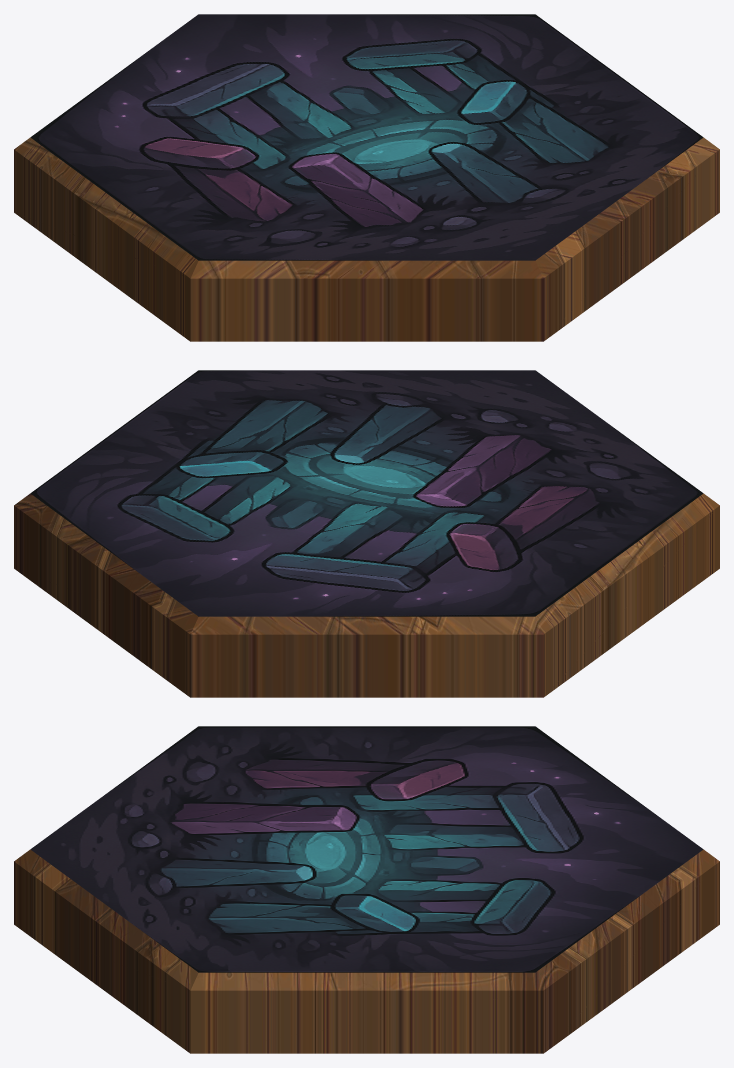
File: hollow-henge.glb
3 renders of one model, top to bottom at view 1: azimuth 30°, elevation 25°; view 2: azimuth 150°, elevation 25°; view 3: azimuth 270°, elevation 25°, orthographic.
Visible parts, largest first — view 1: Circle; view 2: Circle; view 3: Circle.
Part boxes in pixels (x1=…): Circle: x1=14, y1=14, x2=719, y2=341; Circle: x1=14, y1=370, x2=719, y2=697; Circle: x1=14, y1=726, x2=719, y2=1053.
Bounding box in the file's own units: 1.73 × 0.235 × 2.
2 materials, 2 textured.
